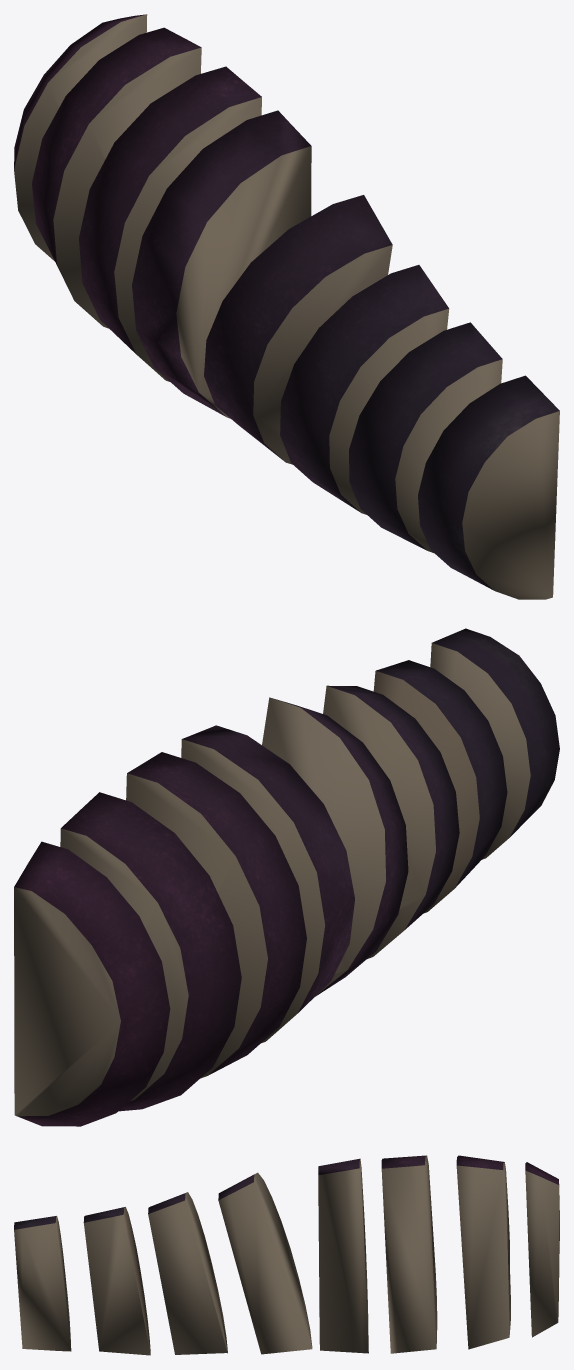
The model's file is EggplantCut05.fbx.
3 renders of one model, top to bottom at view 1: azimuth 30°, elevation 25°; view 2: azimuth 150°, elevation 25°; view 3: azimuth 270°, elevation 25°, orthographic. The views are drawn at different scales.
Parts seen in each view (by area): view 1: Eggplant.006, Eggplant.004, Eggplant.002, Eggplant.001, Eggplant.005, Eggplant, Eggplant.003, Eggplant.007; view 2: Eggplant.007, Eggplant.003, Eggplant.001, Eggplant.002, Eggplant.006, Eggplant.005, Eggplant.004, Eggplant; view 3: Eggplant.002, Eggplant.001, Eggplant.006, Eggplant.003, Eggplant.005, Eggplant, Eggplant.004, Eggplant.007.
Boxes of the visible parts, x1,y1,x2,y2 form: Eggplant.006: (132,110,311,418); Eggplant.004: (418,375,559,599); Eggplant.002: (204,195,392,464); Eggplant.001: (79,66,261,381); Eggplant.005: (280,265,449,514); Eggplant: (349,322,502,552); Eggplant.003: (32,27,201,328); Eggplant.007: (14,14,147,261); Eggplant.007: (14,841,170,1126); Eggplant.003: (60,792,241,1111); Eggplant.001: (126,752,306,1078); Eggplant.002: (262,697,408,996); Eggplant.006: (181,725,354,1043); Eggplant.005: (323,685,459,958); Eggplant.004: (430,628,559,859); Eggplant: (373,660,507,913); Eggplant.002: (218,1172,312,1354); Eggplant.001: (381,1155,437,1353); Eggplant.006: (318,1158,368,1353); Eggplant.003: (456,1155,510,1349); Eggplant.005: (148,1192,227,1354); Eggplant: (83,1207,150,1355); Eggplant.004: (14,1216,71,1351); Eggplant.007: (525,1162,559,1337).
Size of the model in its own units: 600 by 1203 by 3131.
